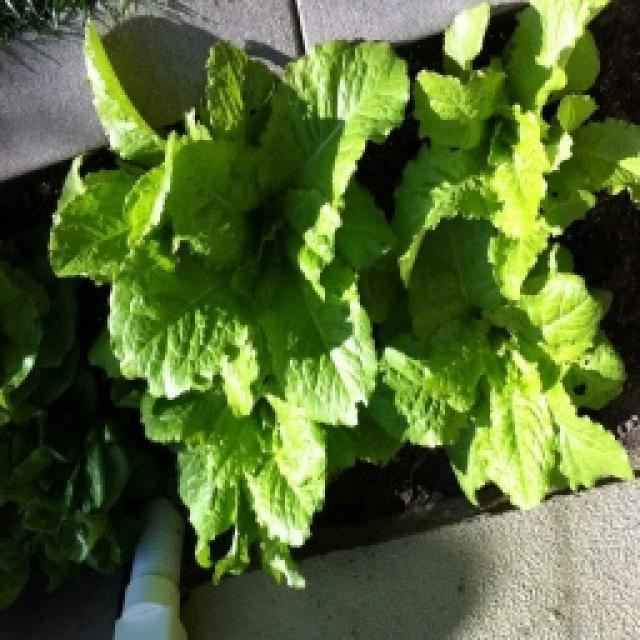Lettuce-Ready-to-Harvest: (50, 25, 409, 583), (381, 0, 640, 506)
